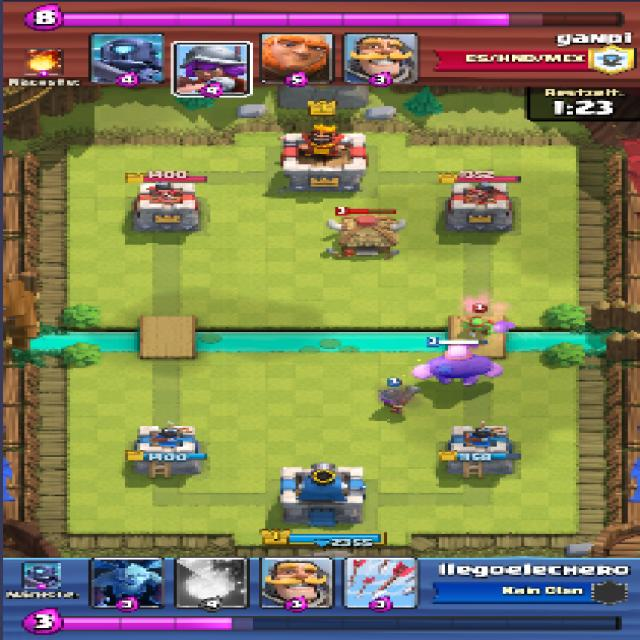Enemy-GoblinHut: (324, 217, 408, 256)
Enemy-SpearGoblin: (455, 314, 501, 336)
Player-Giant: (411, 347, 503, 386)
Player-Musketeer: (378, 384, 419, 414)
